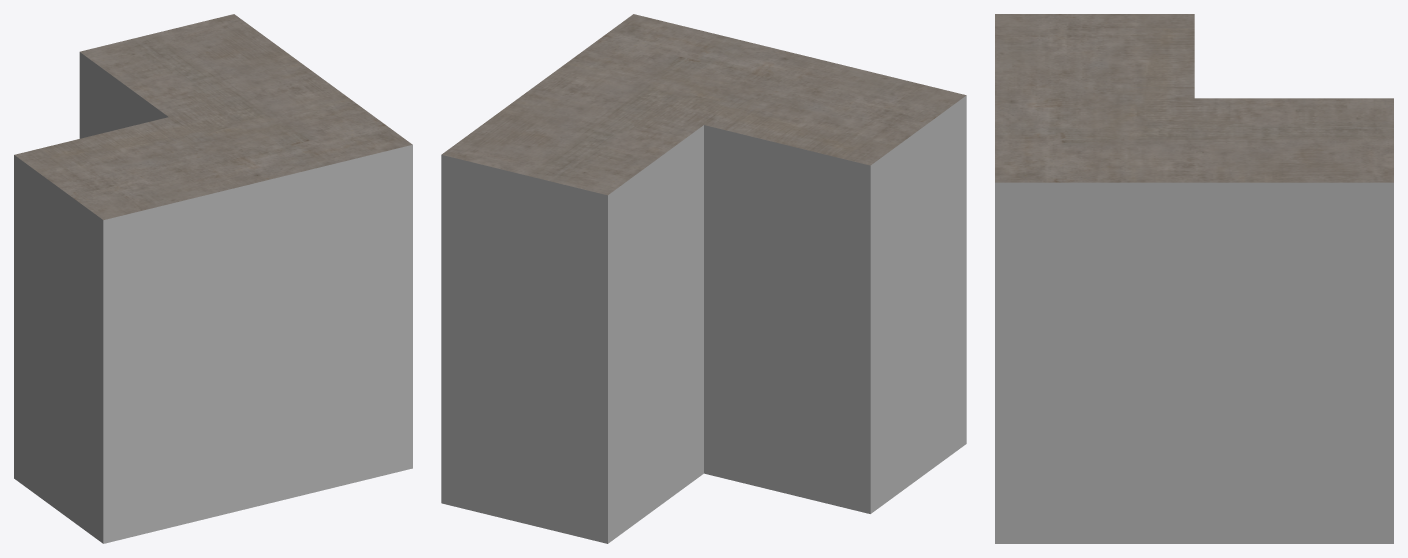
File: wallA_cornerPainted.fbx
The picture shows the model from 3 angles, left to right: view 1: azimuth 30°, elevation 25°; view 2: azimuth 150°, elevation 25°; view 3: azimuth 270°, elevation 25°; orthographic projection. The views are drawn at different scales.
Parts seen in each view (by area): view 1: wallA_cornerPainted; view 2: wallA_cornerPainted; view 3: wallA_cornerPainted.
Part boxes in pixels (box(x1,y1,x2,y2)): wallA_cornerPainted: box(14, 14, 412, 543); wallA_cornerPainted: box(441, 14, 966, 543); wallA_cornerPainted: box(995, 14, 1393, 543).
Bounding box in the file's own units: 10 × 10 × 10.
